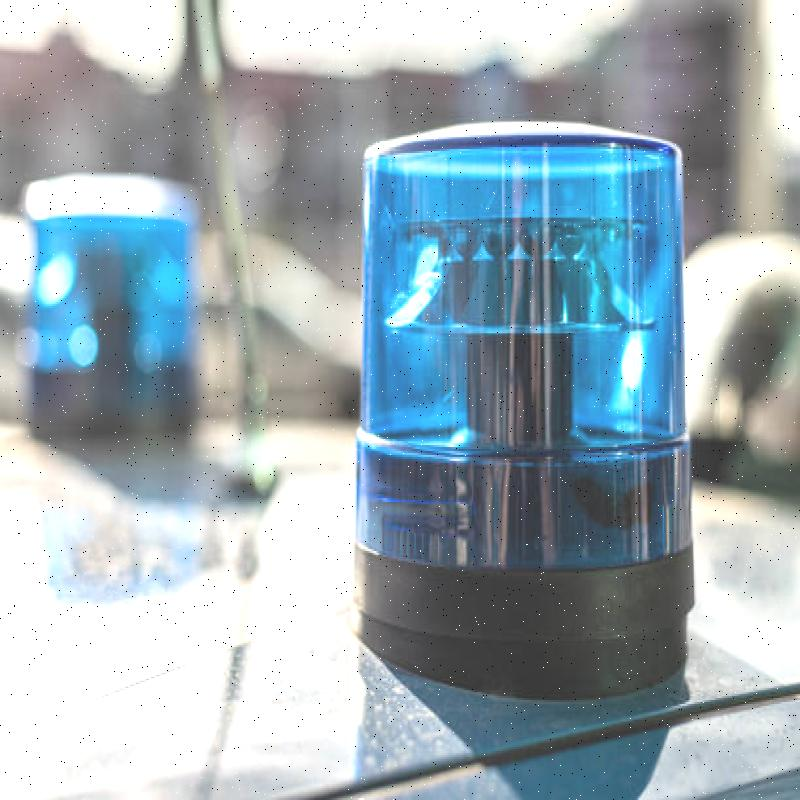AmbulanceSiren: (321, 92, 733, 688), (15, 170, 221, 460)
